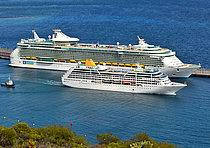Ship: (7, 29, 202, 82), (59, 58, 192, 100)
